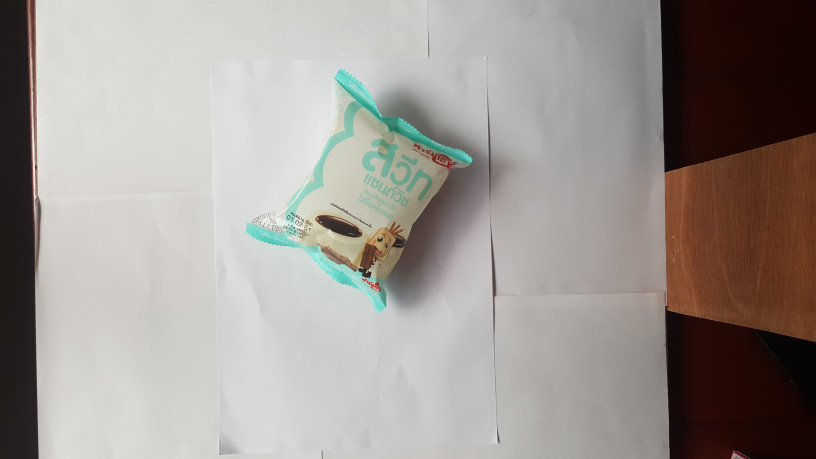farmhouse-sweetsandwich-chocolate: (247, 69, 476, 307)
